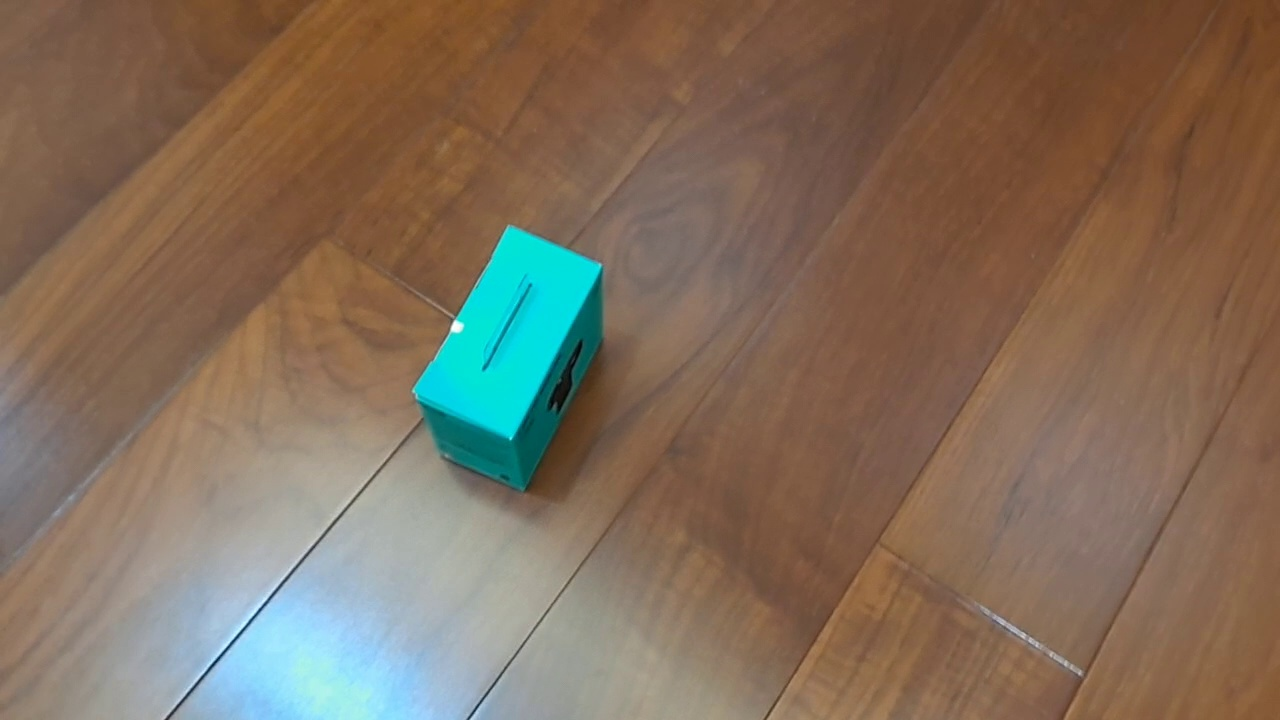webcam: (410, 223, 604, 494)
